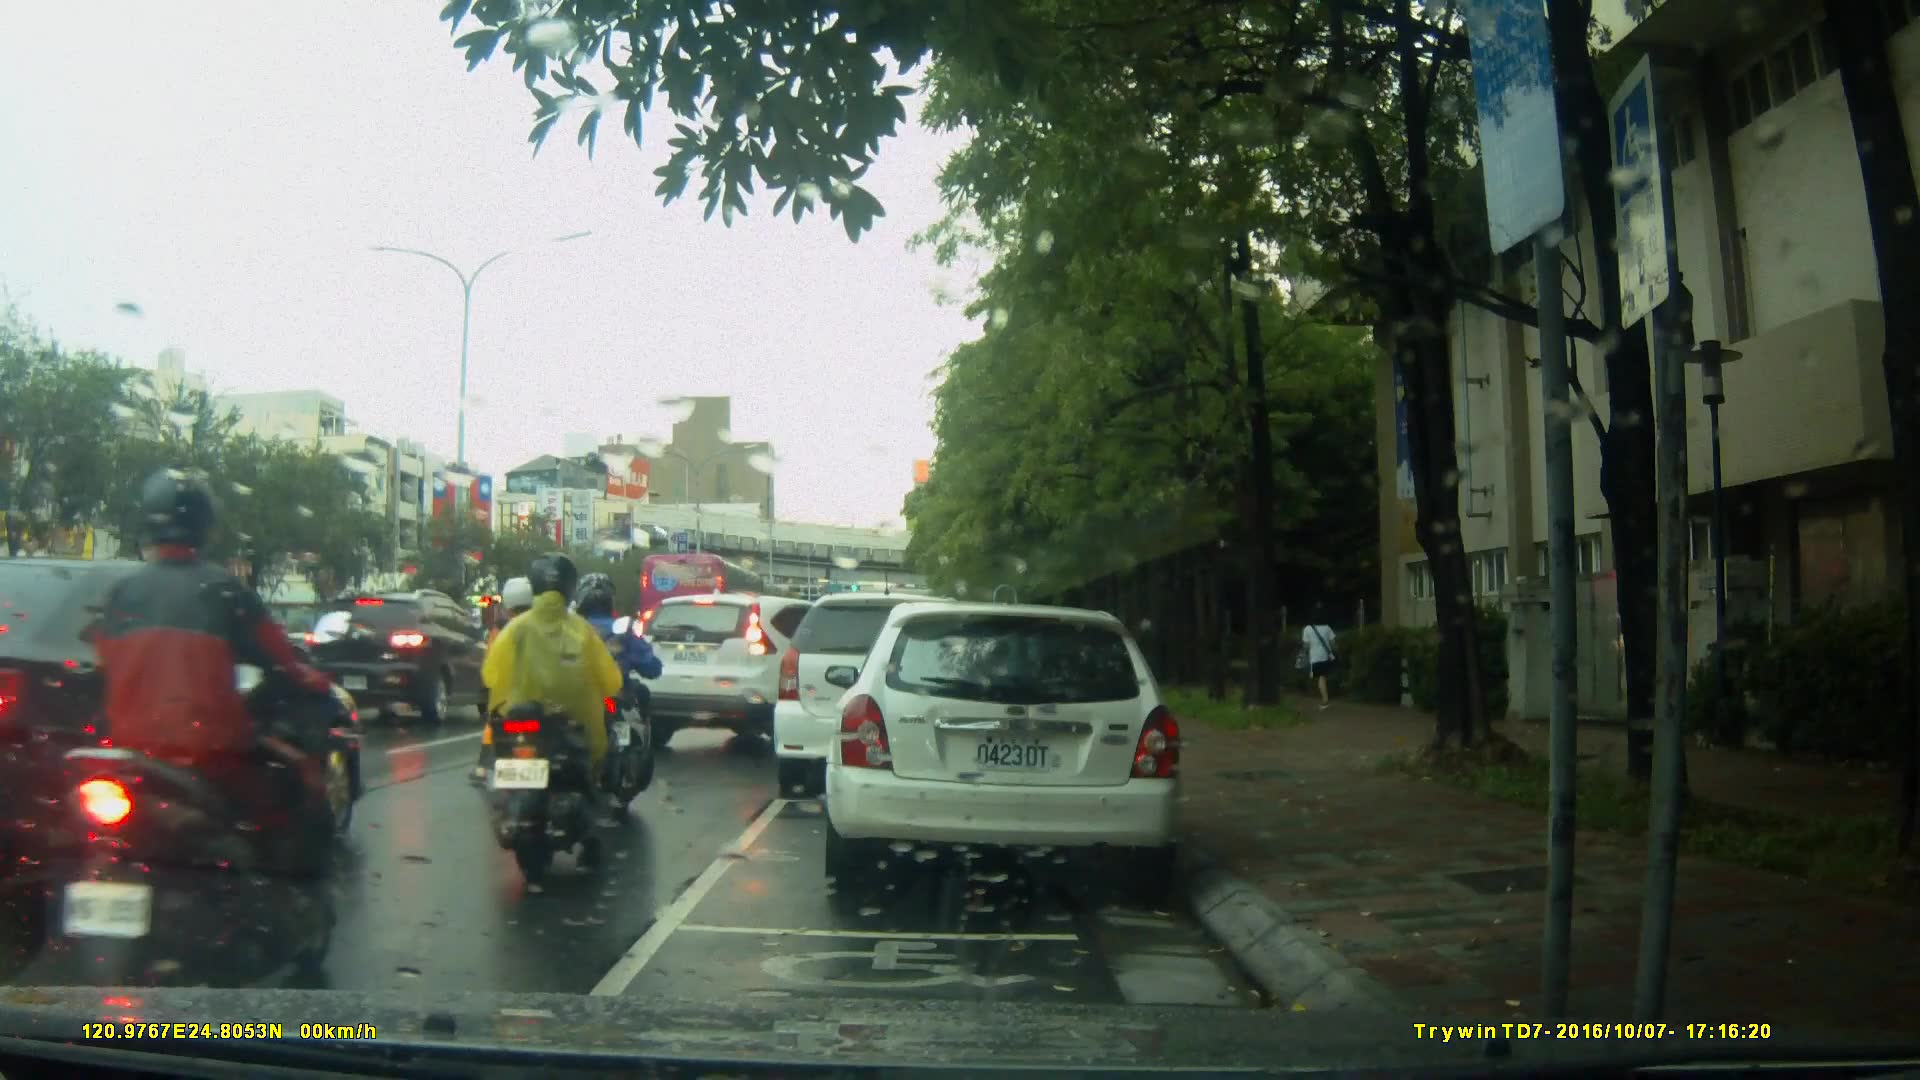pedestrian: (1292, 601, 1348, 722)
rider: (48, 479, 362, 1006), (479, 560, 624, 879), (551, 568, 663, 827), (466, 575, 550, 806)
vehicle: (1, 554, 359, 912), (835, 594, 1194, 898), (776, 590, 1026, 784), (622, 588, 880, 760), (299, 586, 507, 727), (638, 551, 768, 639)
